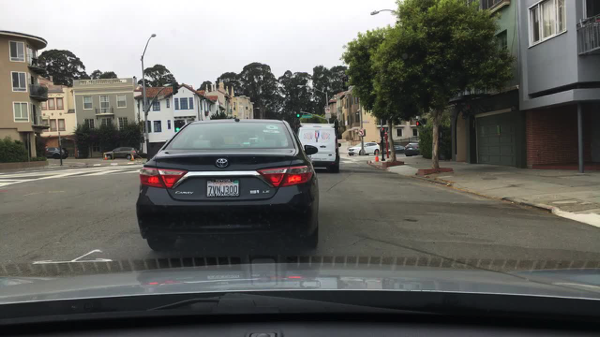car: (135, 117, 321, 252), (296, 122, 342, 173), (348, 141, 381, 157), (103, 147, 140, 161), (404, 141, 424, 157), (44, 147, 68, 159), (380, 145, 405, 155)
traffic light: (340, 77, 349, 92), (172, 81, 178, 96), (174, 122, 180, 133), (415, 122, 423, 128), (295, 114, 301, 121), (381, 128, 385, 136)
traffic sign: (358, 129, 365, 137), (301, 115, 312, 118), (324, 109, 331, 113), (324, 114, 331, 118)
